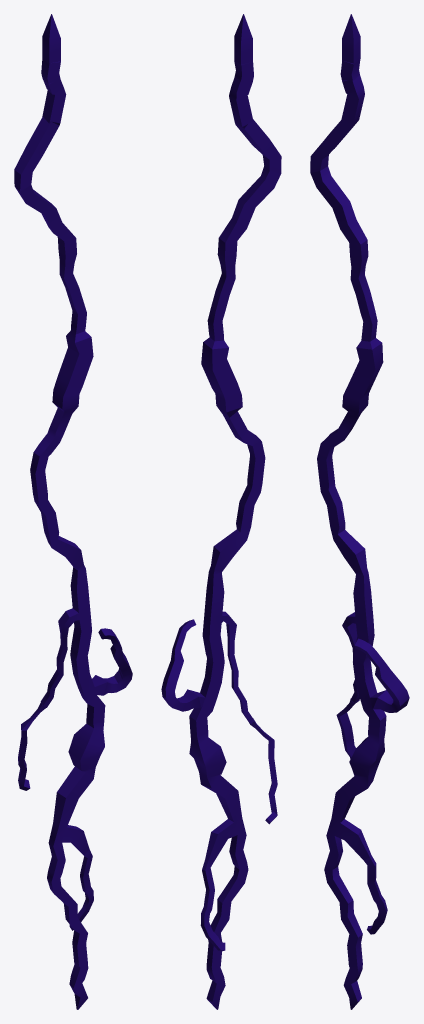
The model's file is yıldırımblend.fbx.
3 renders of one model, left to right at view 1: azimuth 30°, elevation 25°; view 2: azimuth 210°, elevation 25°; view 3: azimuth 330°, elevation 25°, orthographic.
Parts seen in each view (by area): view 1: Cube; view 2: Cube; view 3: Cube.
Boxes of the visible parts, x1,y1,x2,y2 form: Cube: (14, 14, 132, 1009); Cube: (161, 14, 281, 1009); Cube: (310, 14, 409, 1009).
Bounding box in the file's own units: 49.01 × 445 × 38.24.
